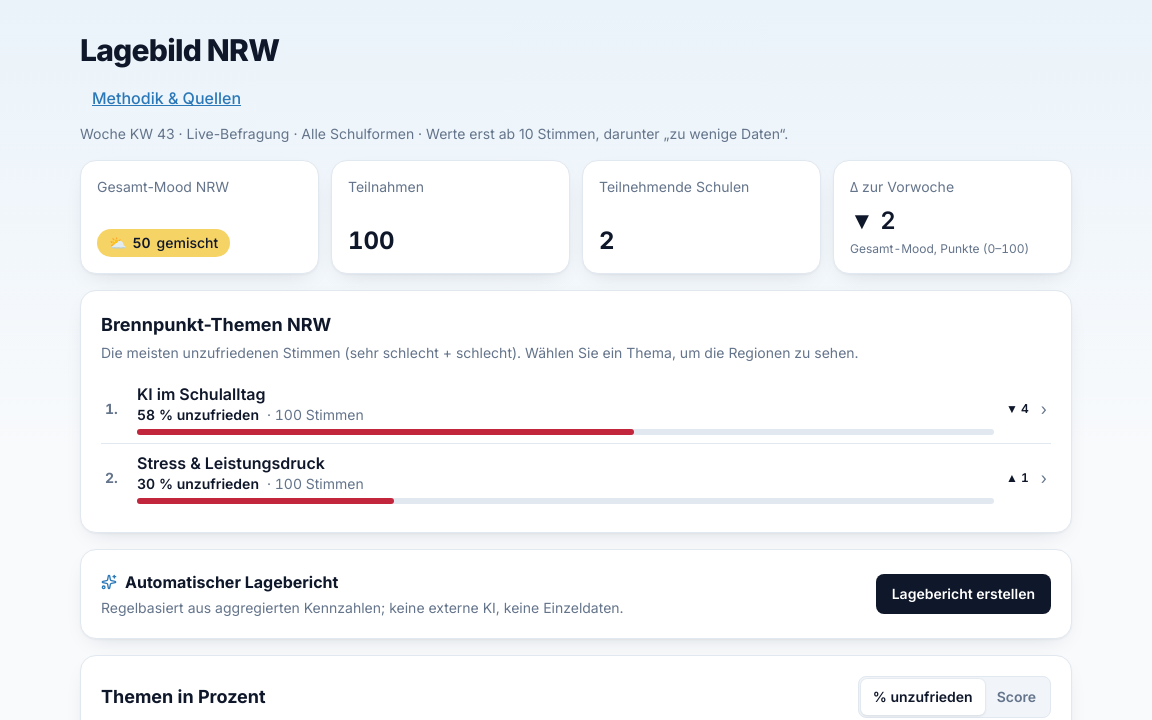
Test case: DashboardPage – Lagebild NRW › renders a labelled rule-based report
This screenshot has width=1152, height=720.
Click the button "Lagebericht erstellen": click(963, 594) top-left (876, 574), bottom-right (1051, 614)
(page scrolled)
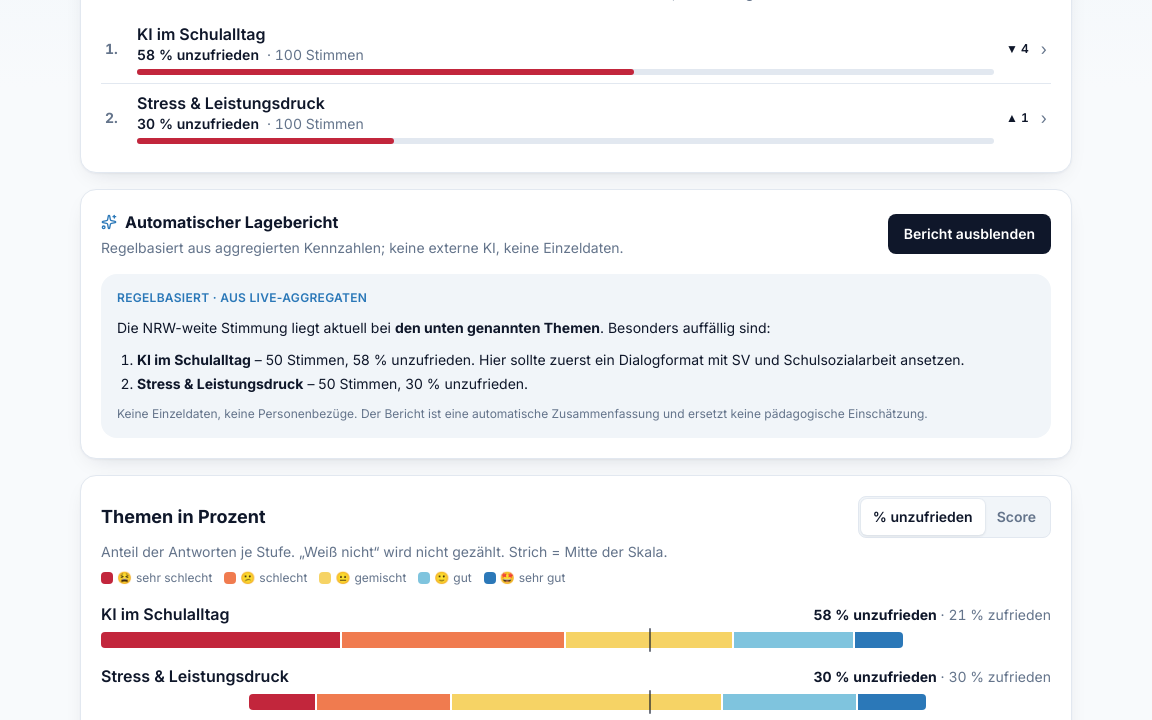
Now the text "Regelbasiert · aus Live-Aggregaten" is shown, box top-left (117, 290), bottom-right (367, 305)
Now the list item "Hier sollte zuerst ein Dialogformat" is shown, box top-left (475, 351), bottom-right (965, 368)
